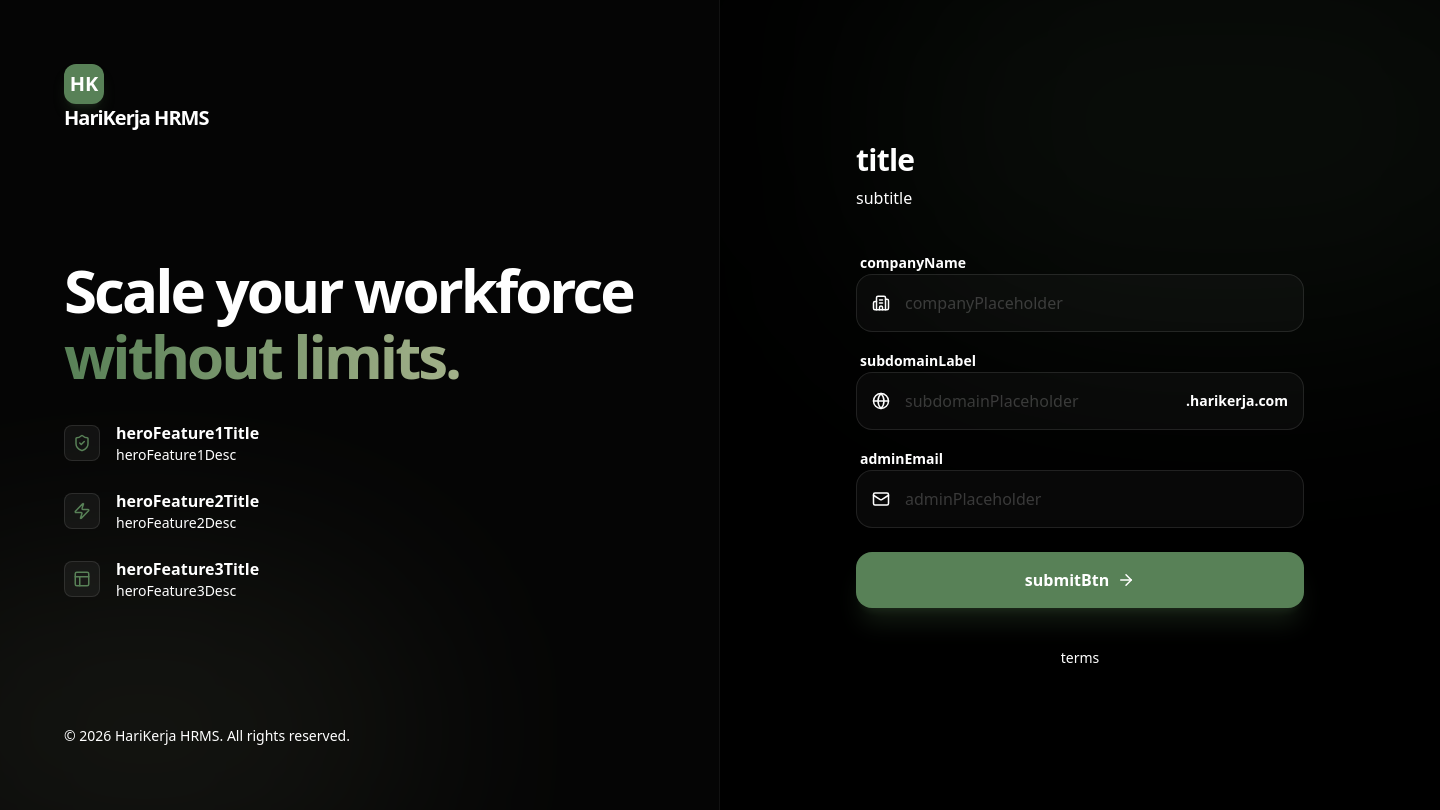
it: SignupPage Component › displays error message on submission failure
# Fill ALL required fields
Type "Fail Corp" into the field with placeholder "companyPlaceholder" at [1080, 303], box [856,274,1304,332]
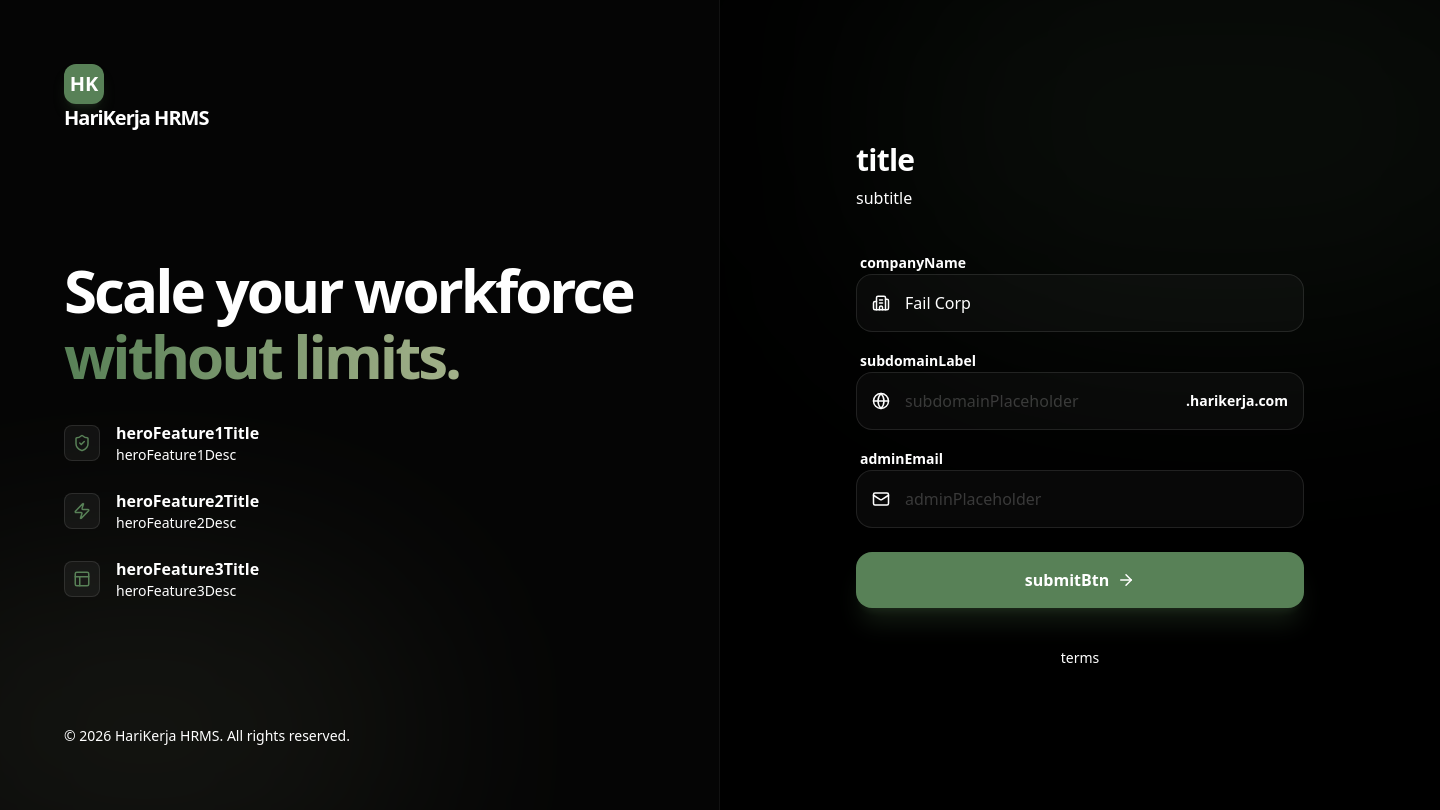
Type "fail" into the field with placeholder "subdomainPlaceholder" at [1080, 401], box [856,372,1304,430]
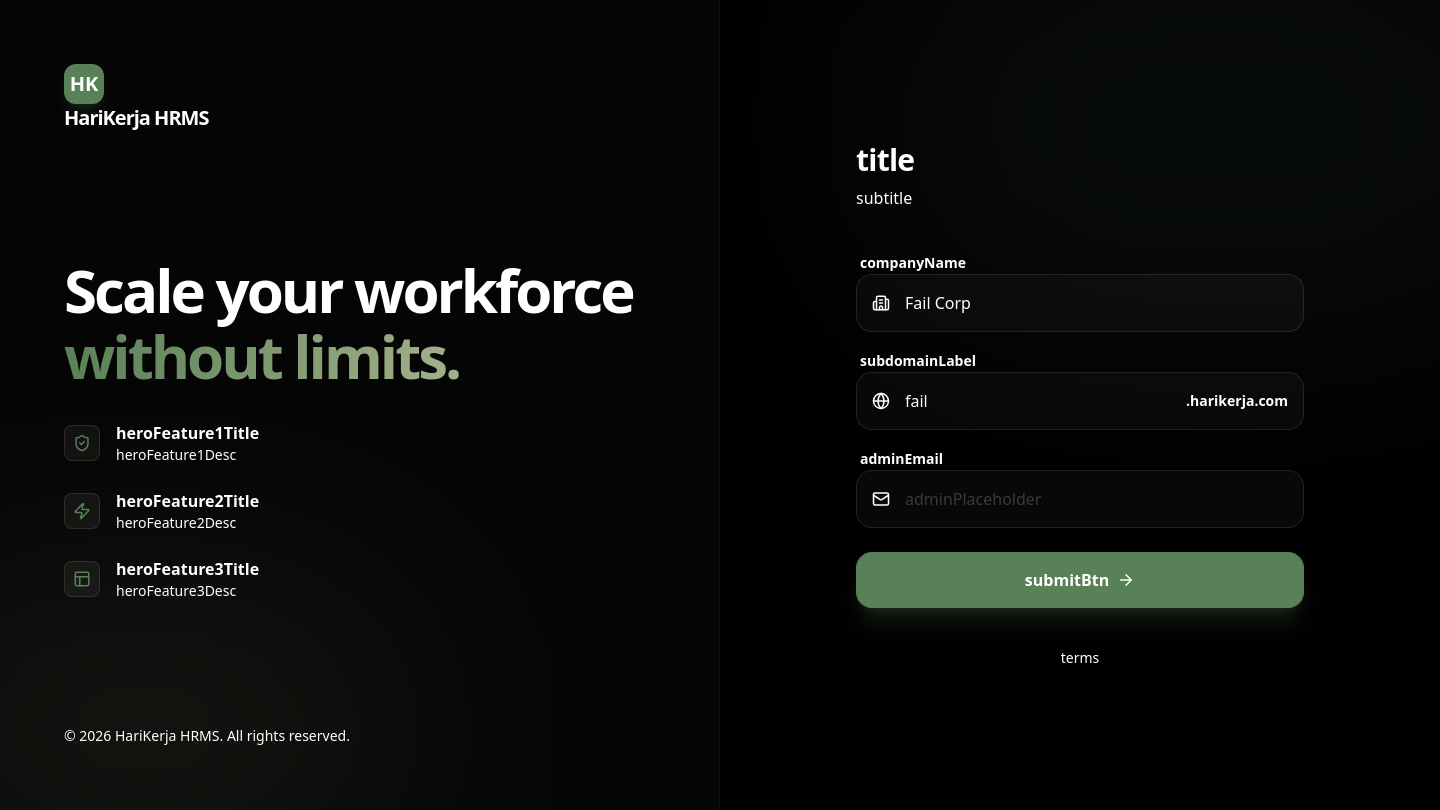
Type "fail@test.com" into the field with placeholder "adminPlaceholder" at [1080, 499], box [856,470,1304,528]
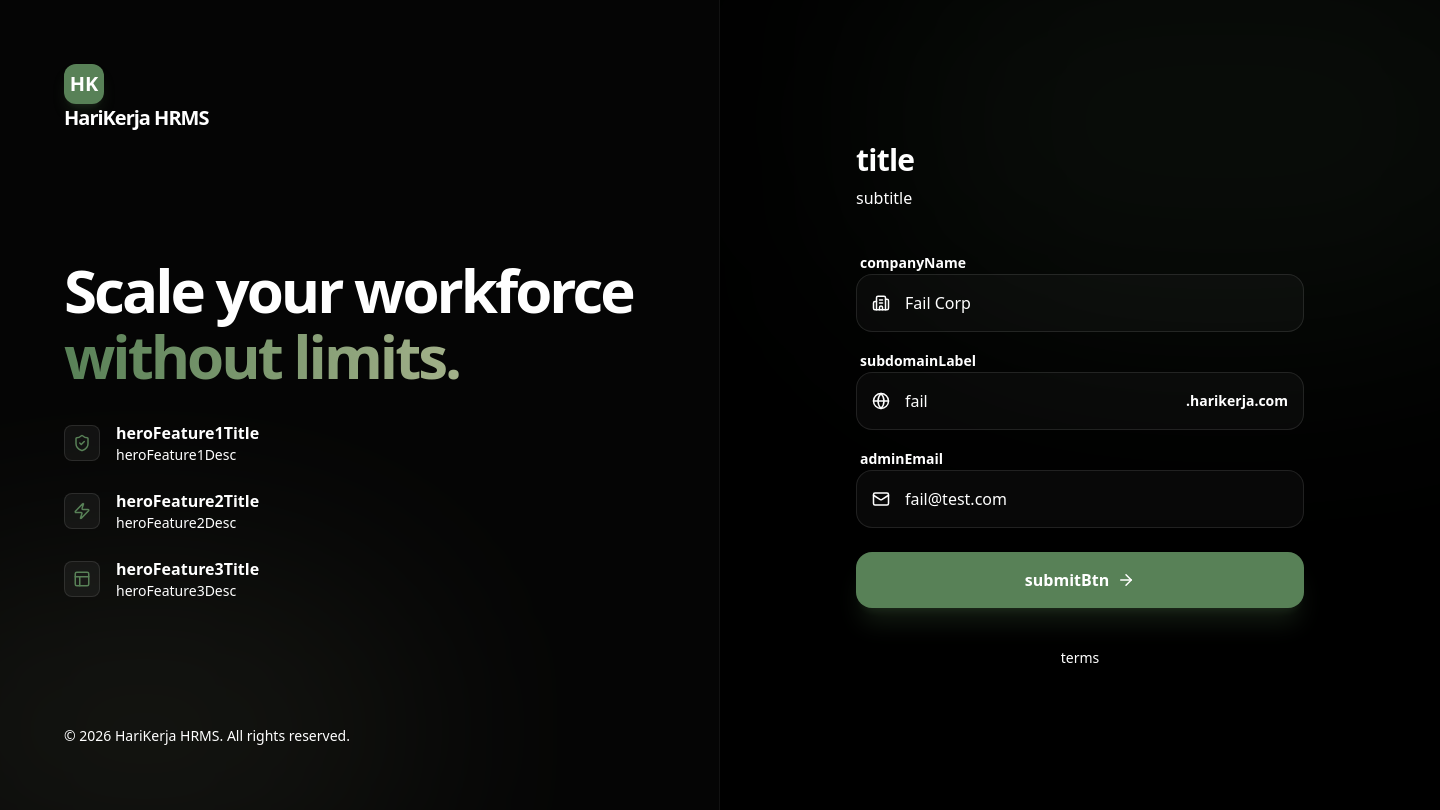
Click the button "submitBtn" at [1080, 580], box [856,552,1304,608]
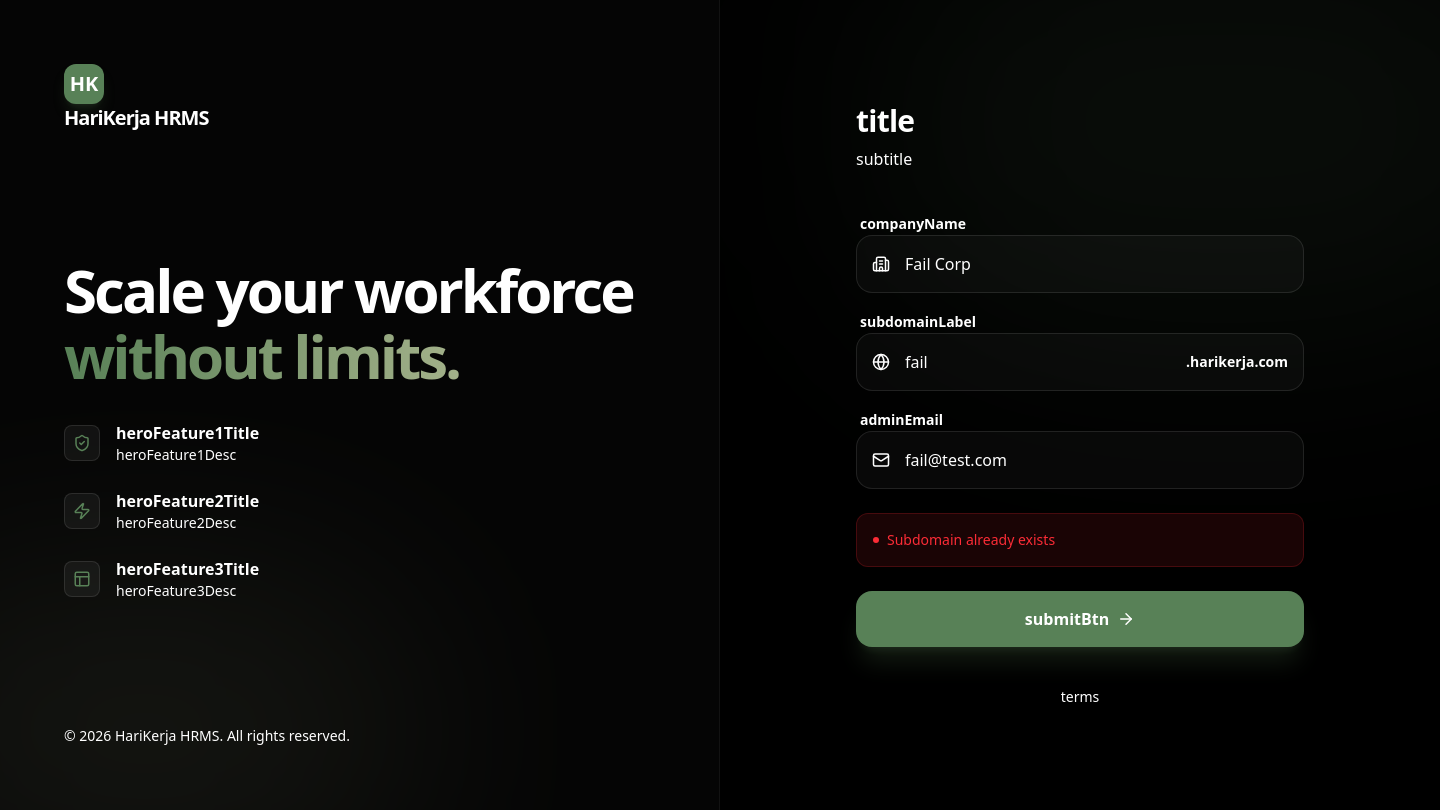
Result: the text "Subdomain already exists" is shown at [856,513,1304,567]
